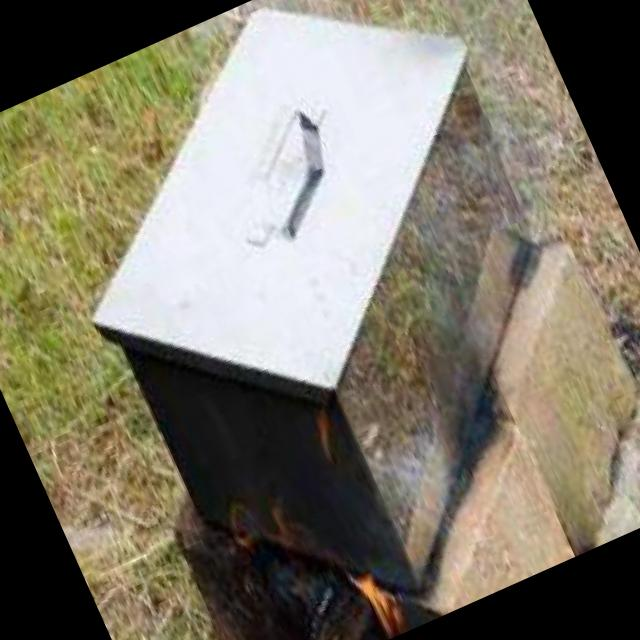fire: (198, 470, 326, 599), (333, 566, 415, 640)
